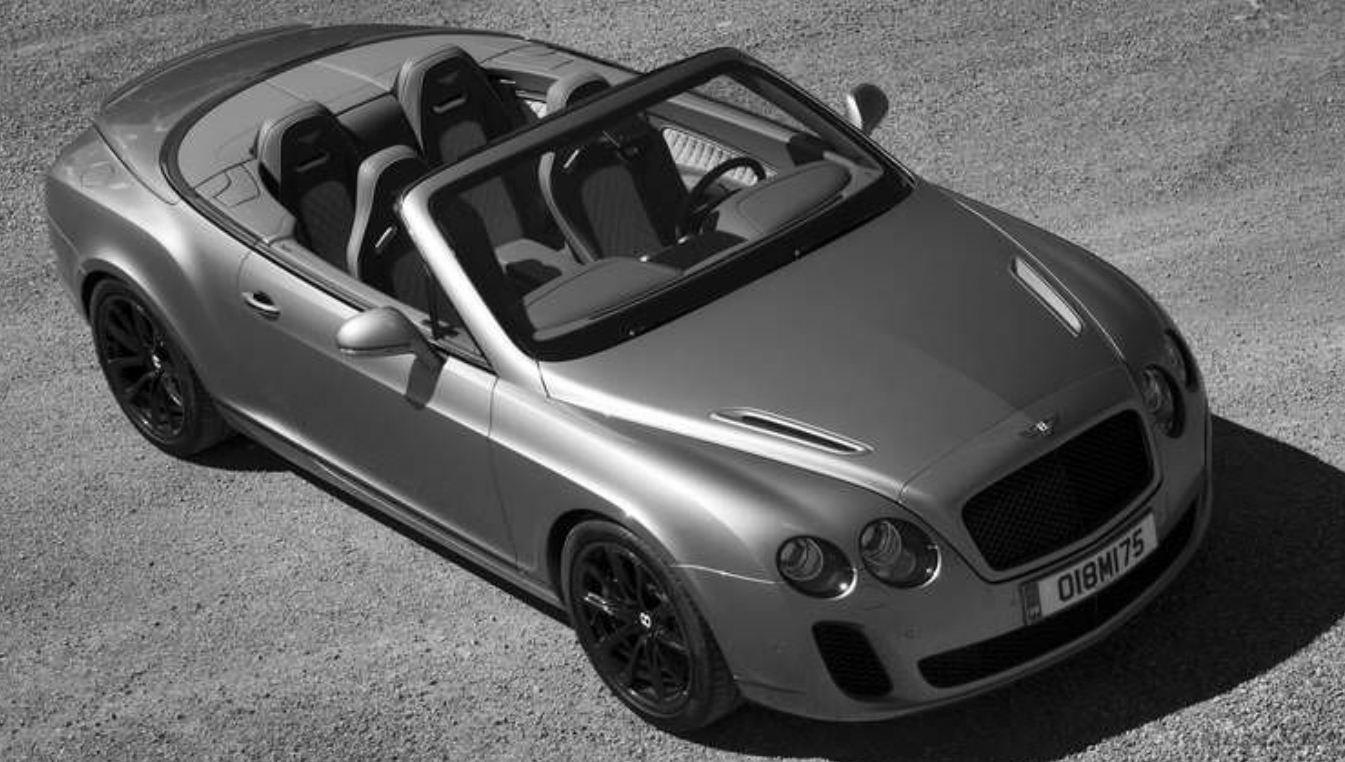car: (44, 20, 1225, 739)
